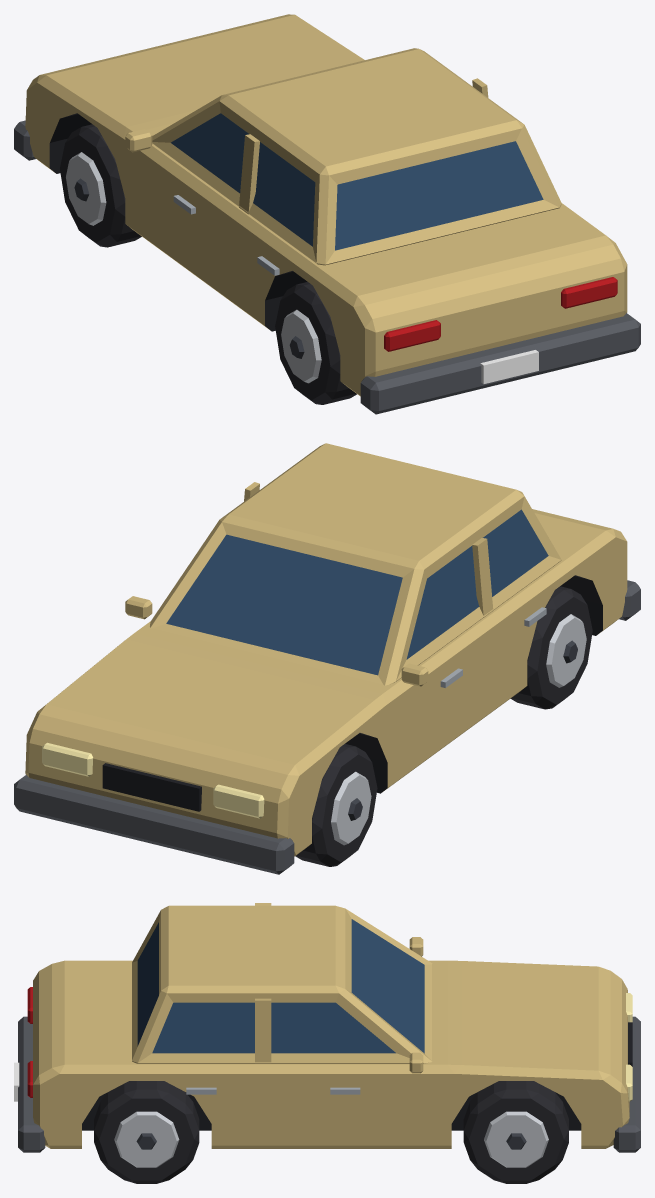
Rendered from Car_Yellow.glb.
3 renders of one model, top to bottom at view 1: azimuth 30°, elevation 25°; view 2: azimuth 150°, elevation 25°; view 3: azimuth 270°, elevation 25°, orthographic. The views are drawn at different scales.
Parts seen in each view (by area): view 1: Car_Yellow_Body, Car_Yellow_Wheel_FL, Car_Yellow_Wheel_RL; view 2: Car_Yellow_Body, Car_Yellow_Wheel_FL, Car_Yellow_Wheel_RL; view 3: Car_Yellow_Body, Car_Yellow_Wheel_FR, Car_Yellow_Wheel_RR.
Boxes of the visible parts, <box> form: Car_Yellow_Body: <box>14,14,640,414</box>; Car_Yellow_Wheel_FL: <box>60,124,141,247</box>; Car_Yellow_Wheel_RL: <box>275,282,356,404</box>; Car_Yellow_Body: <box>14,443,640,874</box>; Car_Yellow_Wheel_FL: <box>295,744,377,866</box>; Car_Yellow_Wheel_RL: <box>510,586,592,709</box>; Car_Yellow_Body: <box>14,903,640,1152</box>; Car_Yellow_Wheel_FR: <box>463,1081,568,1183</box>; Car_Yellow_Wheel_RR: <box>94,1081,199,1183</box>.
Bounding box in the file's own units: 2.16 × 1.5 × 4.58.
1 material, 1 textured.
